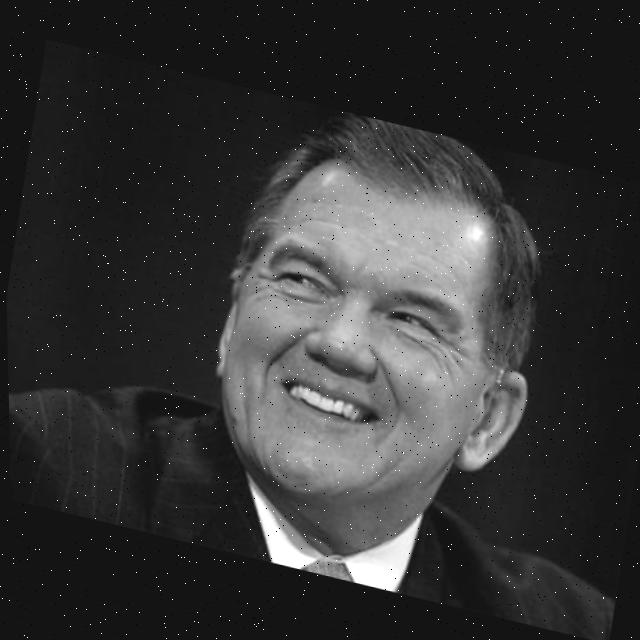face: (216, 146, 508, 541)
